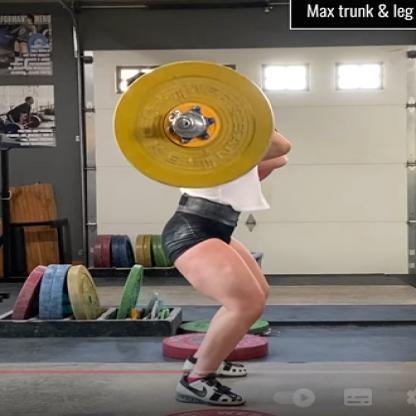barbell: (112, 60, 275, 190)
